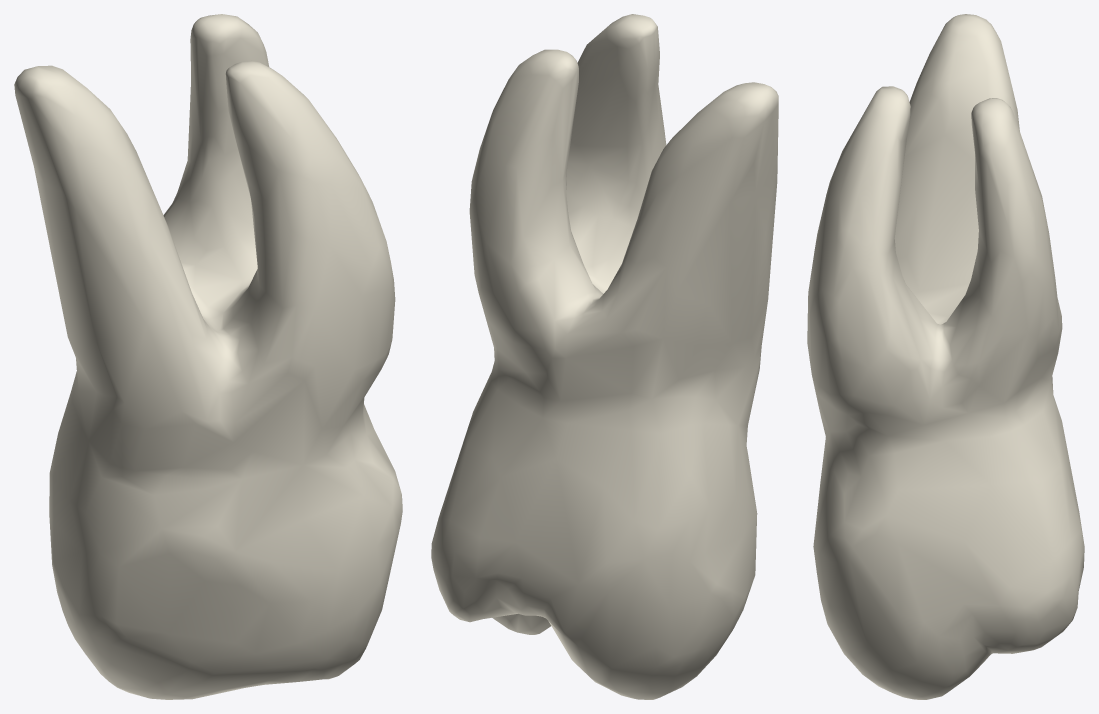
The picture shows the model from 3 angles, left to right: view 1: azimuth 30°, elevation 25°; view 2: azimuth 150°, elevation 25°; view 3: azimuth 270°, elevation 25°; orthographic projection. The views are drawn at different scales.
Parts seen in each view (by area): view 1: ZA_0e612ef4c6f73663; view 2: ZA_0e612ef4c6f73663; view 3: ZA_0e612ef4c6f73663.
Part boxes in pixels (box(x1,y1,x2,y2)): ZA_0e612ef4c6f73663: box(14, 14, 402, 699); ZA_0e612ef4c6f73663: box(431, 14, 778, 699); ZA_0e612ef4c6f73663: box(807, 14, 1084, 699).
Size of the model in its own units: 0.0116 by 0.0221 by 0.00961.
